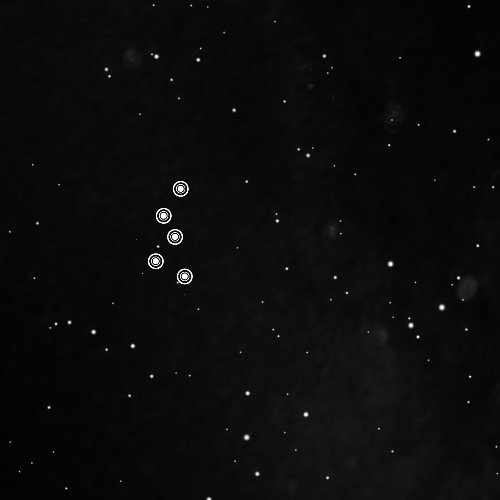cassiopeia: (144, 171, 198, 290)
